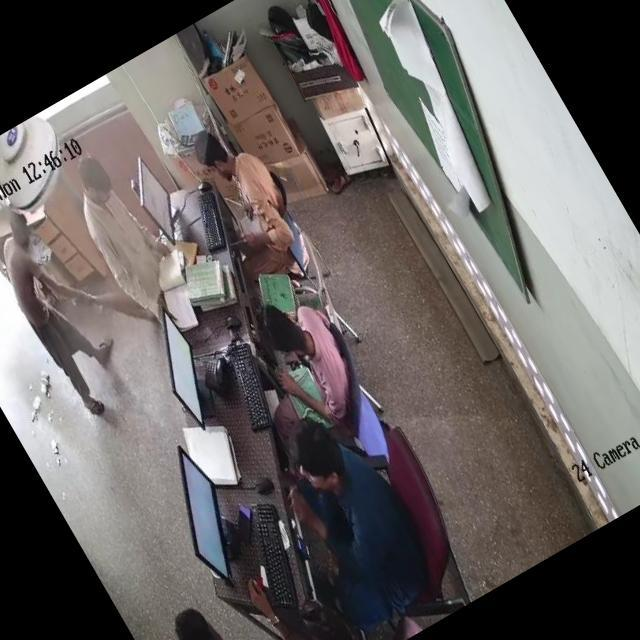person: (268, 392, 461, 634), (246, 281, 392, 453), (57, 138, 193, 322), (0, 213, 122, 413), (190, 116, 316, 280), (163, 576, 293, 640), (274, 580, 372, 640)
